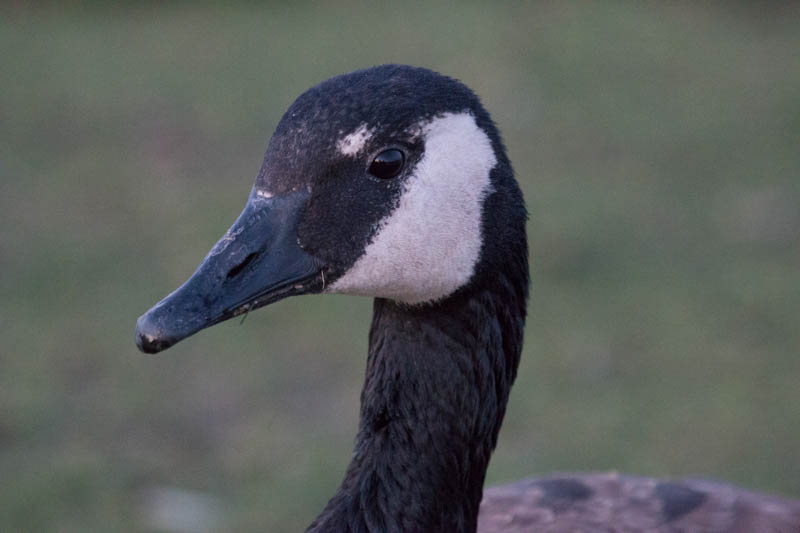goose-head: (134, 63, 530, 356)
